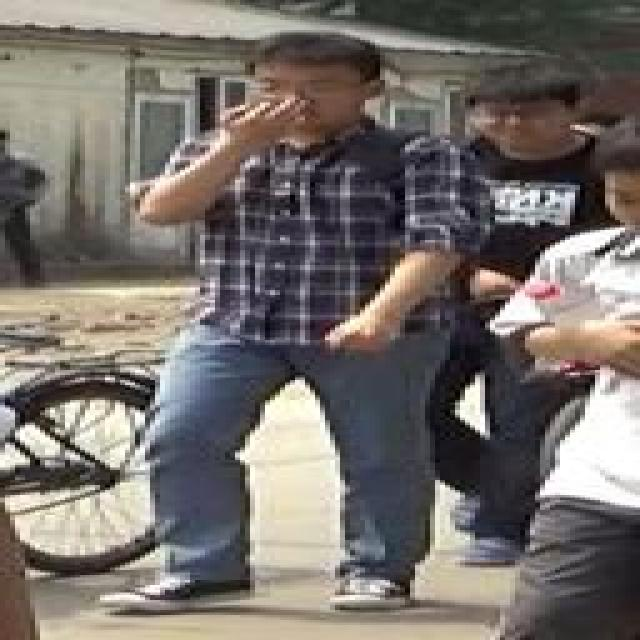adult: (90, 30, 496, 615), (383, 73, 601, 551)
child: (504, 129, 640, 640)
